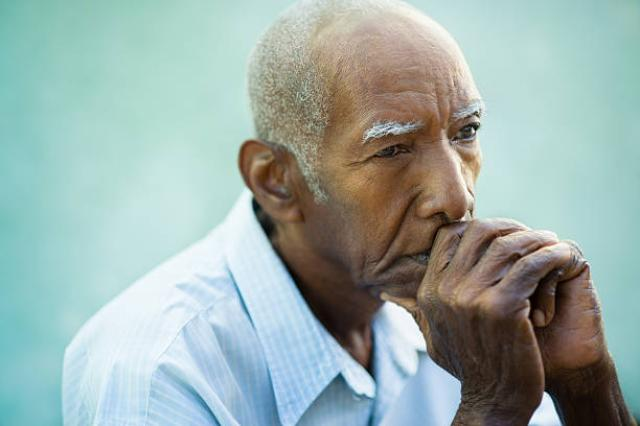forehead: (391, 83, 421, 99)
frown_line: (431, 96, 454, 126)
gummy_smile: (387, 198, 411, 244)
masseter: (369, 252, 397, 278)
